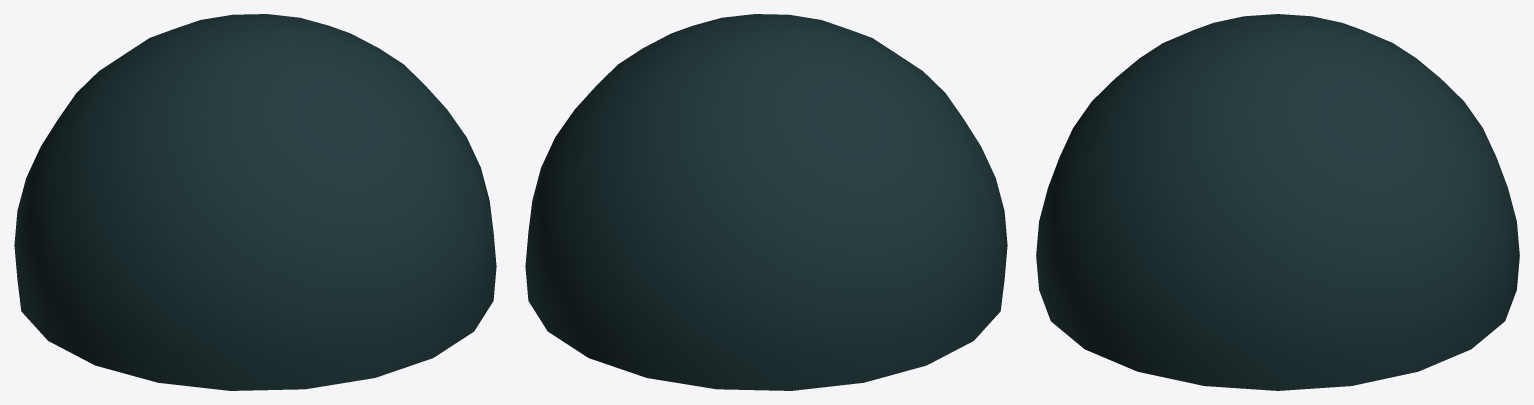
Rendered from UFOwindow.obj.
3 renders of one model, left to right at view 1: azimuth 30°, elevation 25°; view 2: azimuth 150°, elevation 25°; view 3: azimuth 270°, elevation 25°, orthographic.
Bounding box in the file's own units: 10 × 5.78 × 10.
